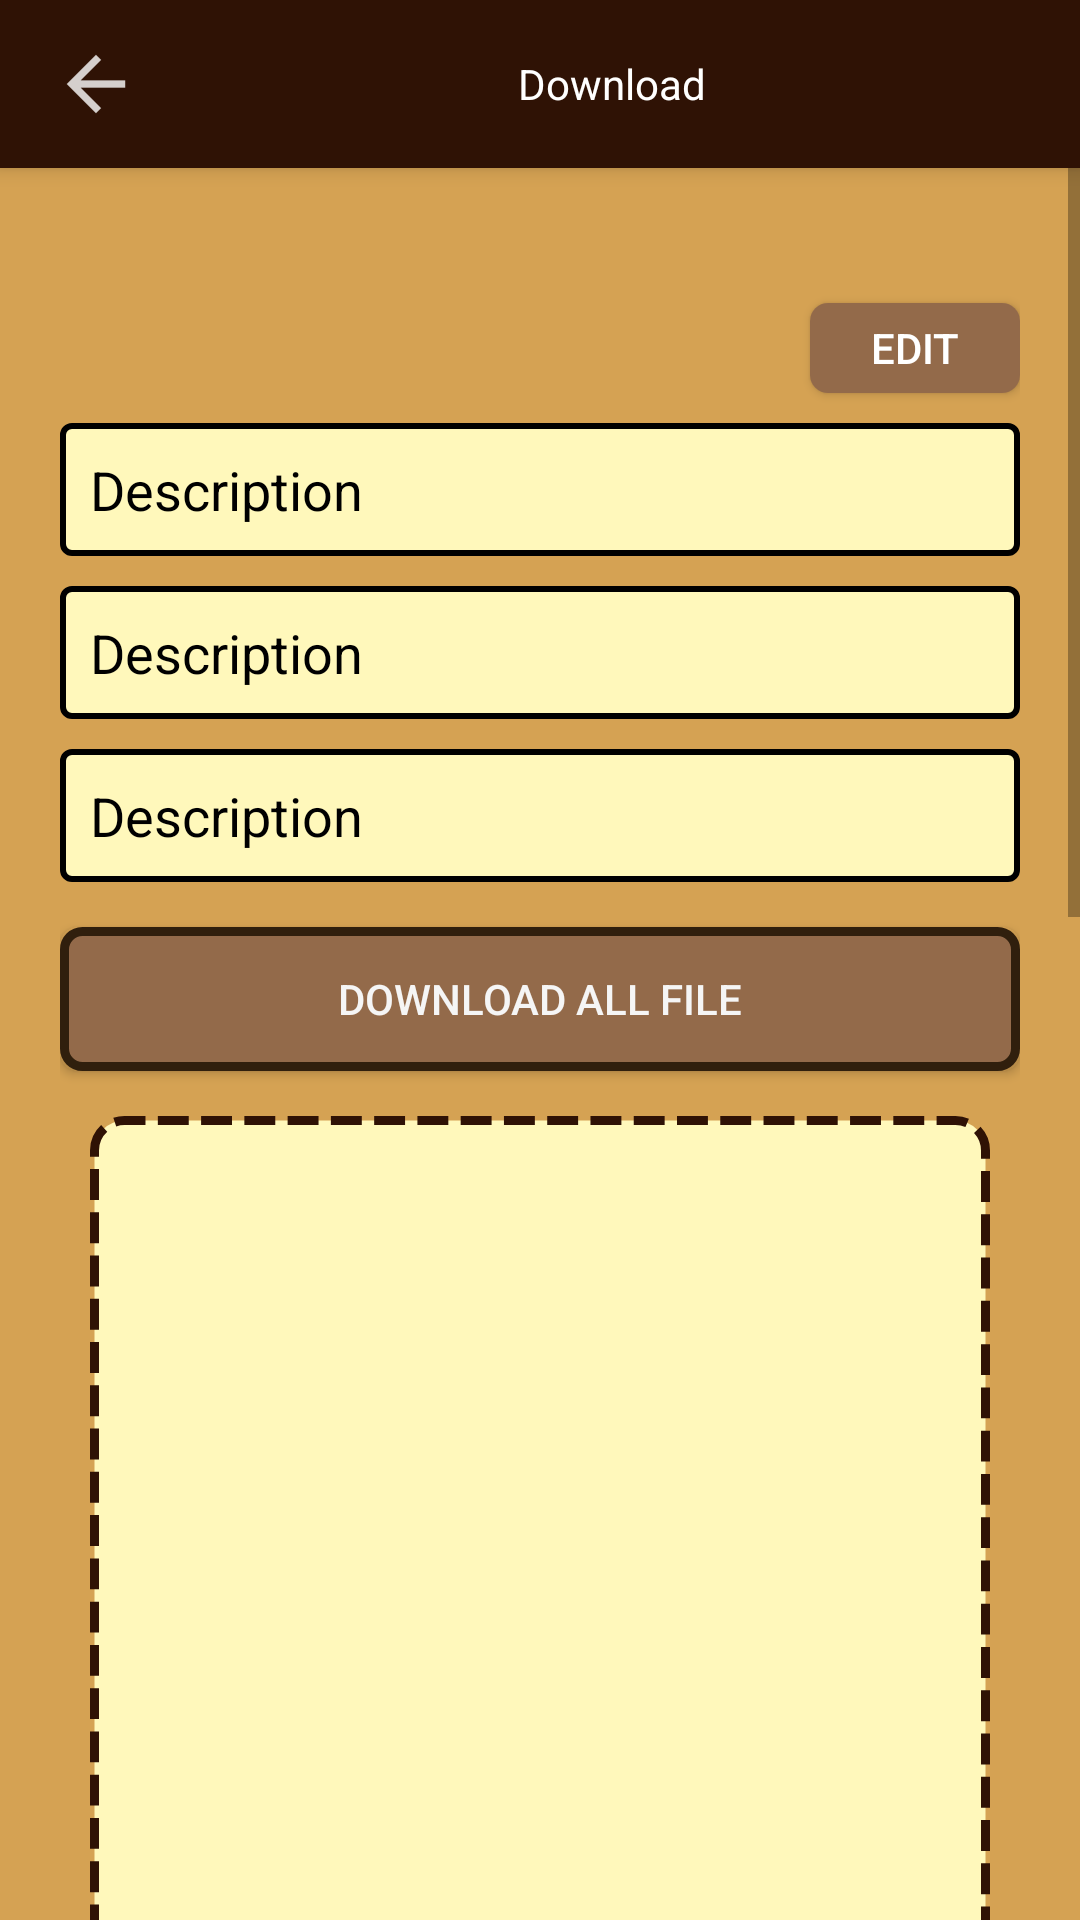

Icons on this 1080px×1920px Android screen, each with the point to tap as (x,y):
back: (96,84)
